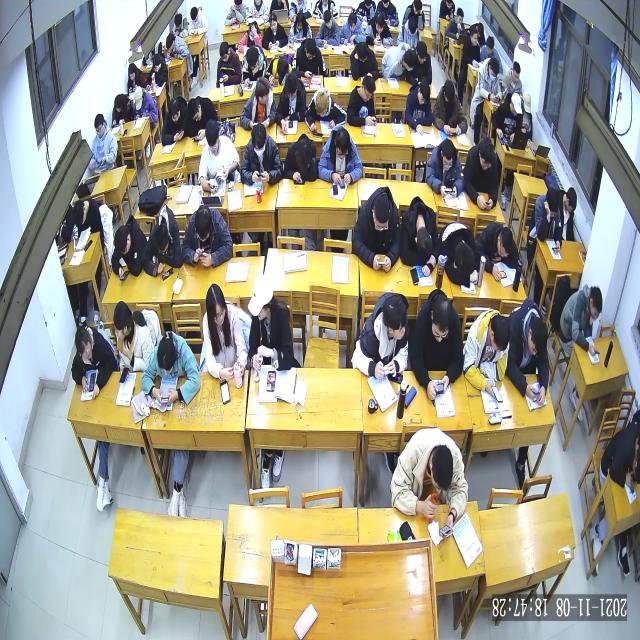bow: (504, 296, 550, 406), (140, 328, 200, 406), (70, 323, 116, 400), (398, 195, 438, 278), (142, 203, 184, 279), (438, 220, 480, 288), (478, 220, 520, 282), (111, 214, 148, 282), (304, 84, 348, 134), (432, 78, 468, 138), (282, 132, 318, 186), (186, 94, 218, 142), (348, 40, 381, 84), (160, 95, 188, 146), (382, 40, 416, 80), (240, 42, 268, 86), (364, 9, 392, 47), (338, 10, 366, 46), (264, 54, 292, 88), (238, 19, 262, 53), (165, 30, 191, 60), (224, 1, 246, 26), (172, 11, 190, 38)
down: (429, 442, 455, 493), (429, 294, 453, 344), (205, 283, 228, 327), (526, 316, 548, 360), (489, 312, 512, 353), (156, 335, 178, 377), (371, 194, 391, 233), (194, 202, 212, 245), (250, 122, 268, 160), (496, 226, 514, 262), (294, 139, 312, 173), (478, 136, 494, 173), (205, 119, 221, 155), (334, 128, 352, 160), (114, 226, 132, 258), (154, 221, 170, 257), (588, 286, 604, 322), (440, 139, 456, 173), (284, 72, 300, 102), (314, 90, 330, 118), (360, 76, 376, 104), (546, 188, 560, 220), (186, 96, 202, 122), (74, 198, 88, 226), (443, 77, 456, 106), (417, 80, 431, 106), (246, 47, 260, 72), (304, 38, 318, 62), (169, 96, 181, 124), (565, 186, 577, 213), (510, 92, 522, 119), (404, 46, 416, 72), (488, 56, 500, 82), (95, 112, 106, 140), (276, 56, 290, 78), (356, 40, 368, 64), (374, 10, 386, 34), (416, 40, 428, 64), (218, 41, 230, 64), (134, 86, 144, 110), (522, 90, 532, 114), (511, 61, 521, 84), (249, 20, 259, 42), (324, 9, 334, 31), (348, 10, 358, 32), (408, 16, 418, 38), (485, 34, 495, 56), (114, 94, 124, 114), (152, 53, 162, 73), (166, 32, 176, 52), (269, 12, 279, 32), (295, 10, 305, 30), (174, 11, 184, 30), (189, 5, 199, 22), (128, 62, 136, 82), (456, 6, 464, 26)
lookup: (74, 326, 94, 362), (469, 24, 478, 46)
sit: (390, 426, 469, 538), (409, 287, 465, 401), (350, 289, 410, 381), (246, 272, 294, 374), (202, 281, 248, 383), (462, 308, 512, 401), (352, 182, 402, 272), (112, 300, 156, 377), (182, 203, 232, 269), (197, 118, 240, 194), (558, 284, 602, 356), (317, 124, 363, 188), (240, 121, 283, 188), (463, 134, 500, 210), (424, 137, 464, 200), (600, 424, 640, 484), (531, 186, 563, 254), (275, 70, 307, 136), (240, 76, 276, 134), (88, 113, 118, 175), (346, 73, 378, 127), (405, 78, 433, 136), (490, 91, 522, 140), (292, 36, 326, 80), (216, 40, 242, 90), (404, 40, 432, 86), (73, 196, 104, 237), (477, 54, 502, 104), (558, 184, 578, 240), (262, 10, 289, 50), (315, 8, 341, 48), (132, 85, 158, 123), (397, 15, 422, 52), (144, 52, 168, 90), (461, 24, 481, 66), (502, 60, 524, 98), (289, 10, 313, 44), (111, 92, 133, 128), (520, 90, 534, 142), (187, 4, 209, 36), (445, 6, 465, 38), (127, 61, 145, 92)
